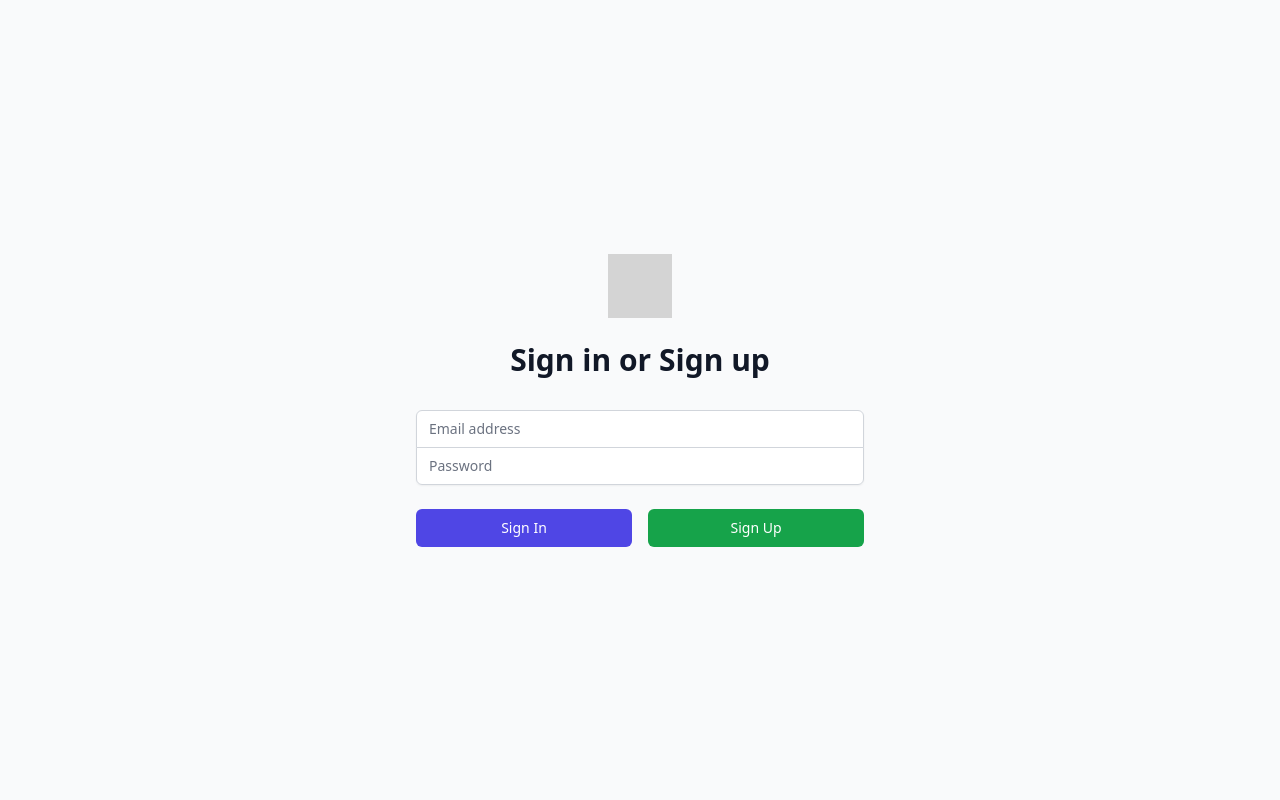
Test: Root Index Component (Login Page) › displays an error message on failed sign in
The width and height of the screenshot is (1280, 800).
Type "test@example.com" into the field with placeholder "Email address" at (640, 428), box [416,410,864,448]
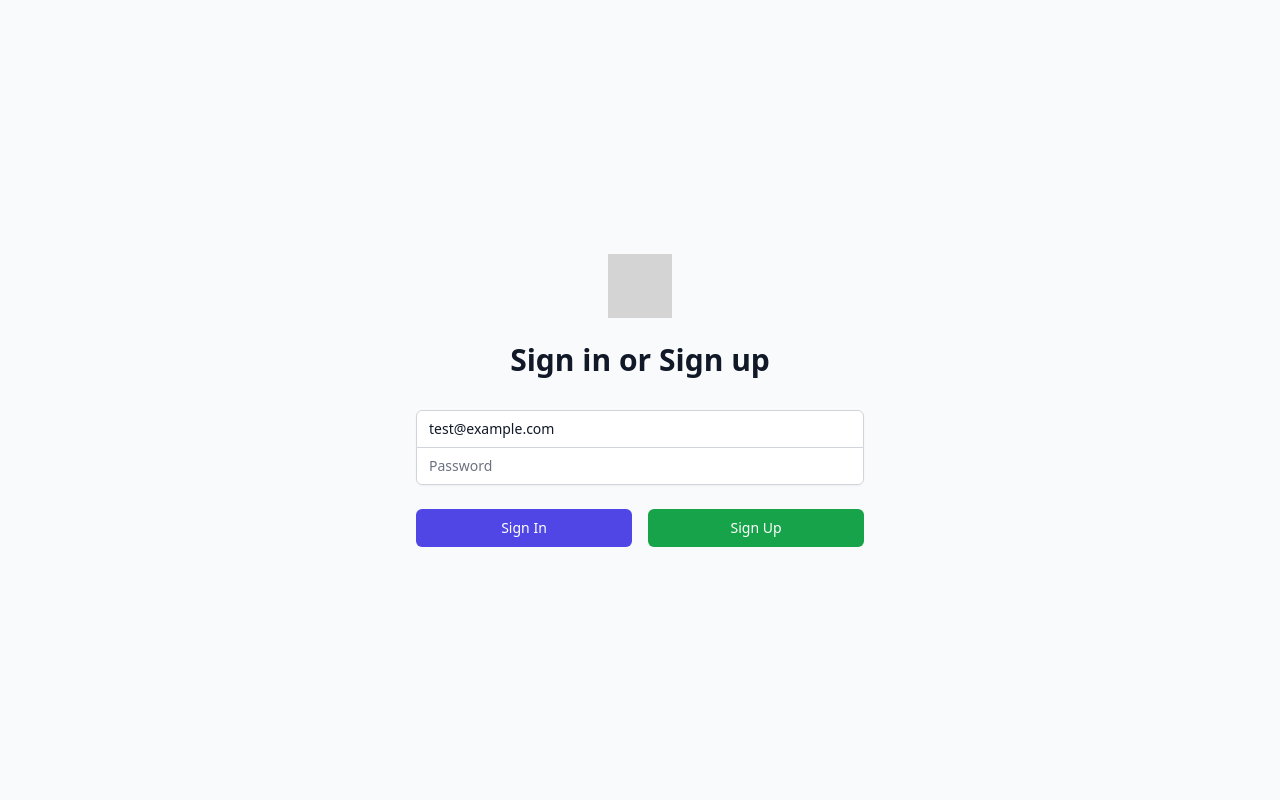
Type "password" into the password field with placeholder "Password" at (640, 466), box [416,446,864,484]
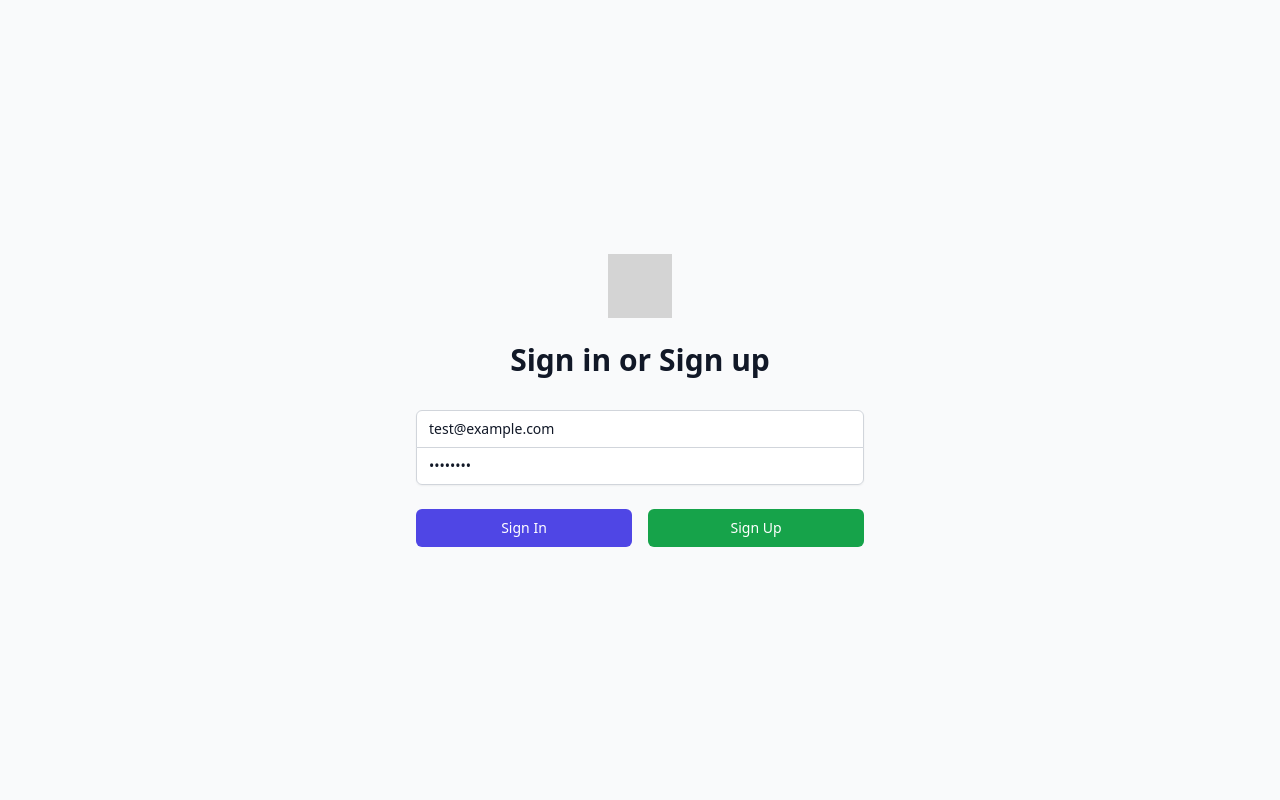
Click the button "Sign In" at (524, 528), box [416,508,632,546]
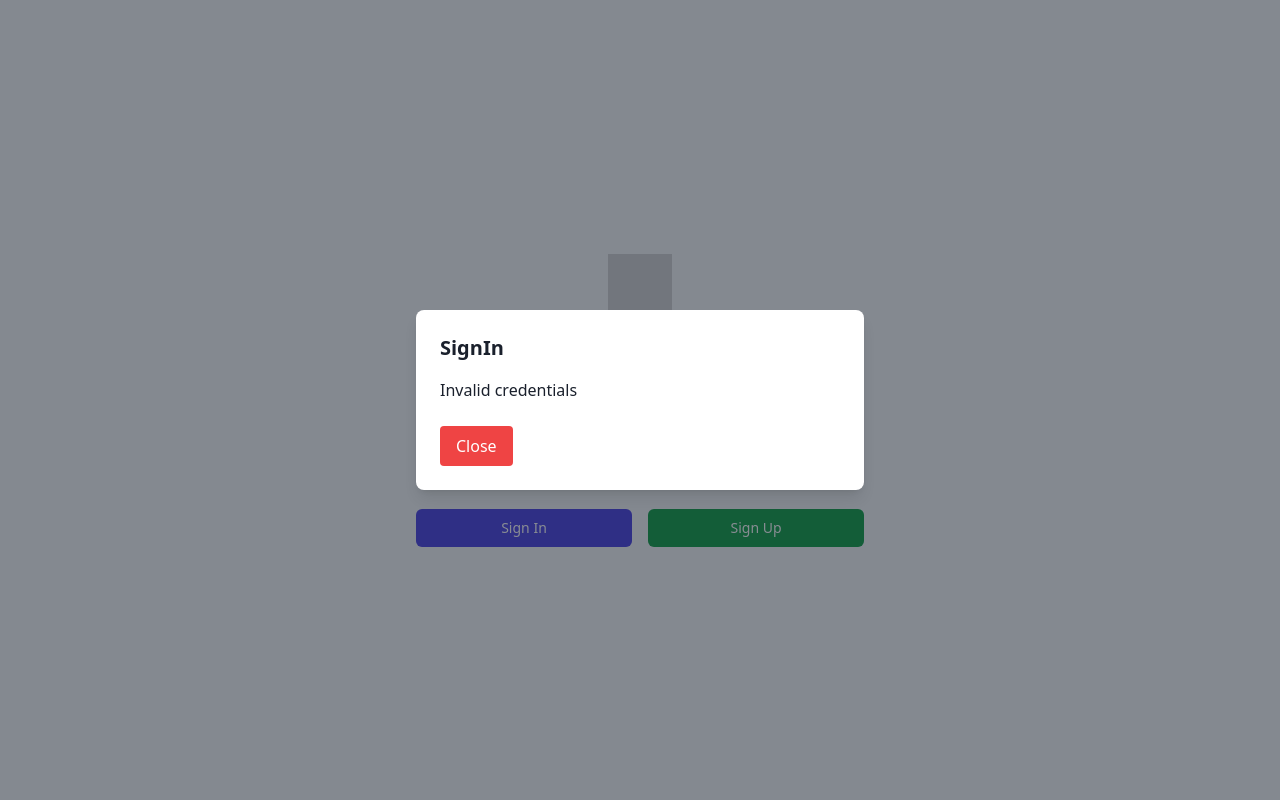
Check: the dialog shows "Invalid credentials", box [440,379,577,401]
